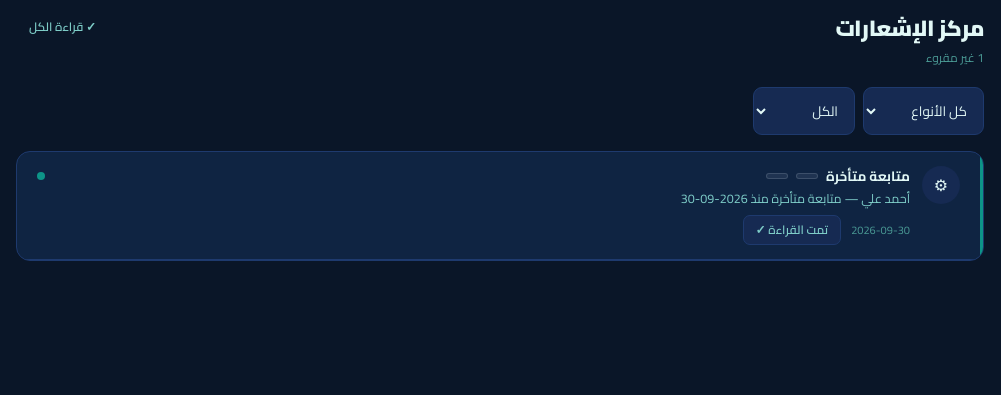
Test case: NotificationsPage — "تمت القراءة" hides non-actionable notifications after reading › 2+3+4. clicking it marks the notification read (existing mechanism), removes it from the visible list, and updates the unread count
This screenshot has width=1001, height=395.
Expected: the text "1 غير مقروء" is shown, [926,46,984,69]
Expected: the text "متابعة متأخرة" is shown, [826,166,910,186]
What coordinates should you click on to do the following:
click the button "تمت القراءة ✓"
I would click on:
 (792, 230)
Its box is [742,215,841,245].
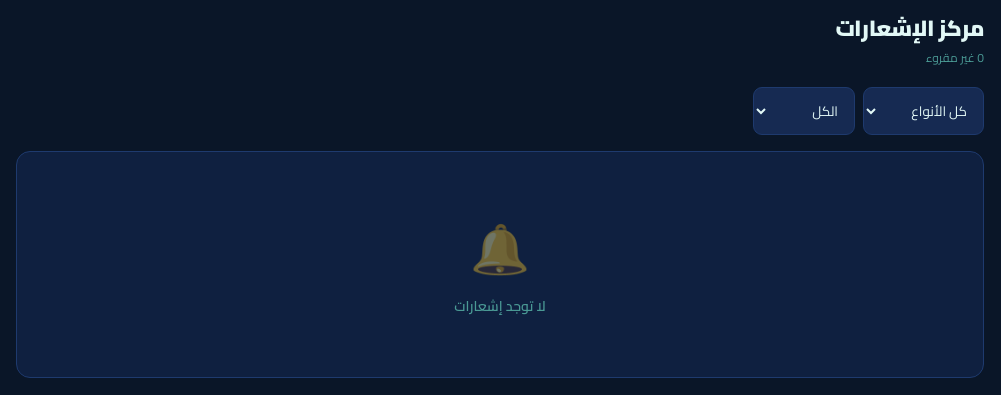
Expected: the text "متابعة متأخرة" is gone
Expected: the text "0 غير مقروء" is shown, [926,46,984,69]
